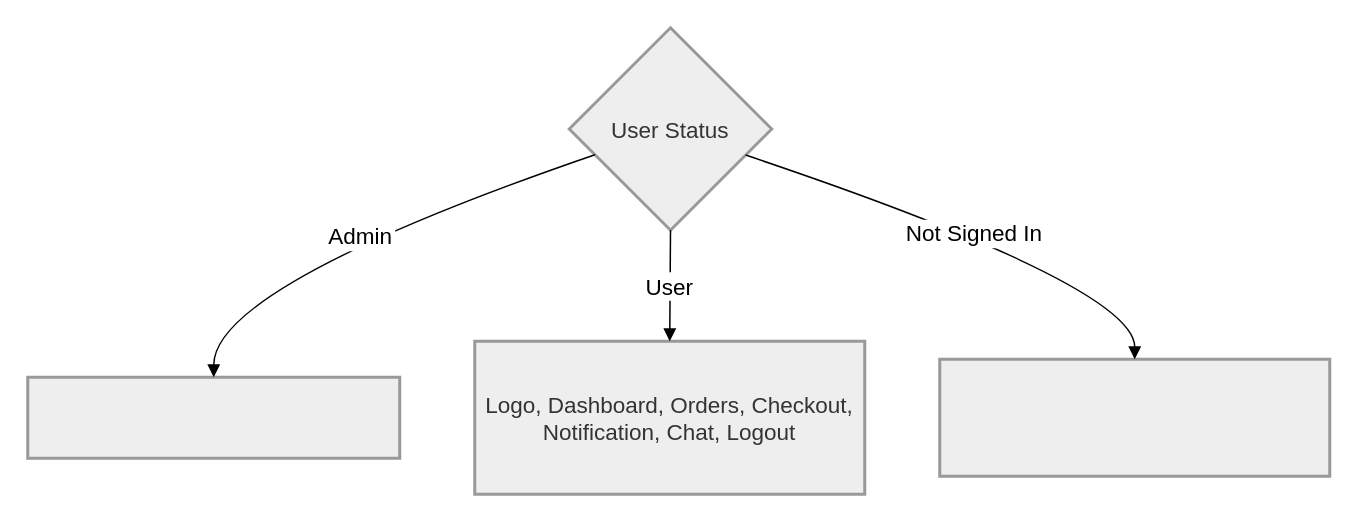
This 1356x521 diagram has some shape labels left out. Here are the shapes that lost their labels. From the top down, the centre of each, then its label:
At pixel 213 417: "Logo, Notification, Logout".
At pixel 1134 417: "Logo, Dashboard, Orders, Checkout, Chat, Logout".
